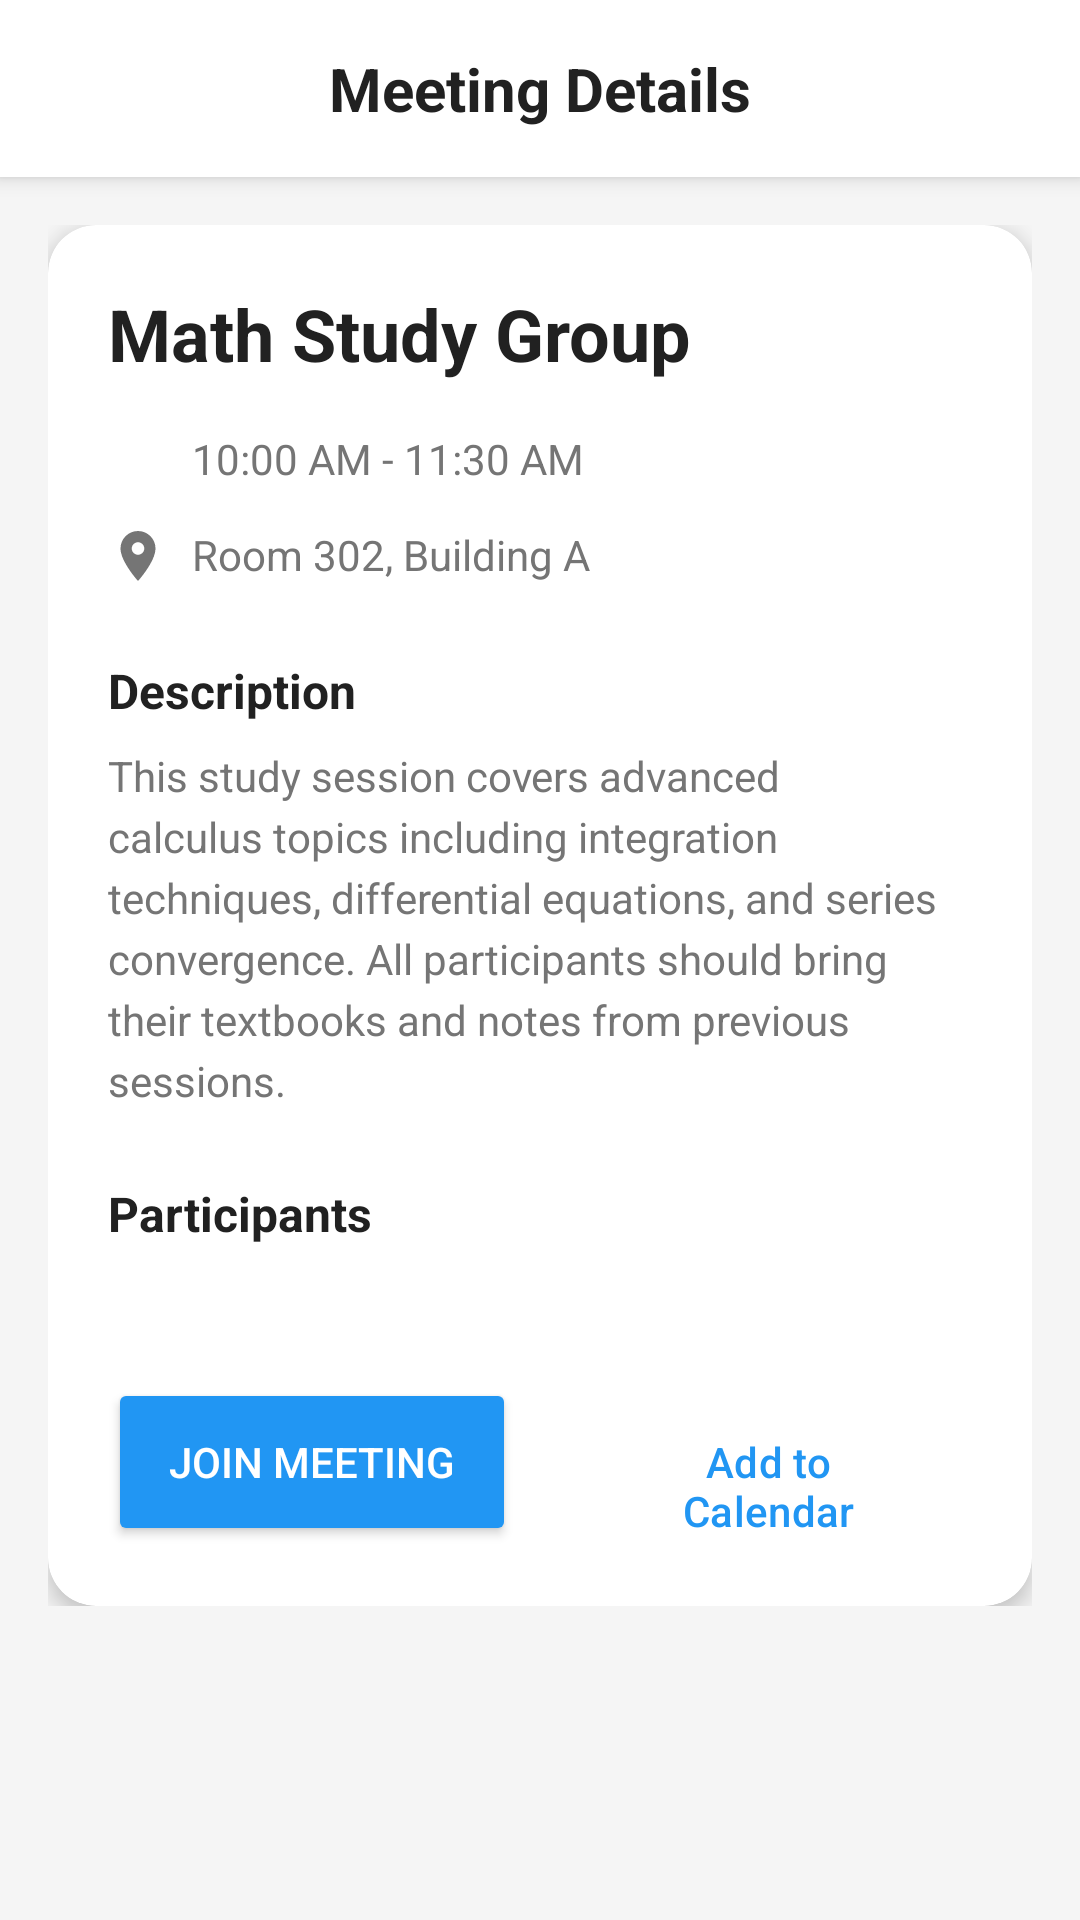

Point at icon controls on the screen. Image size 1080*1920, points as (x,y).
Location: (138,556)
